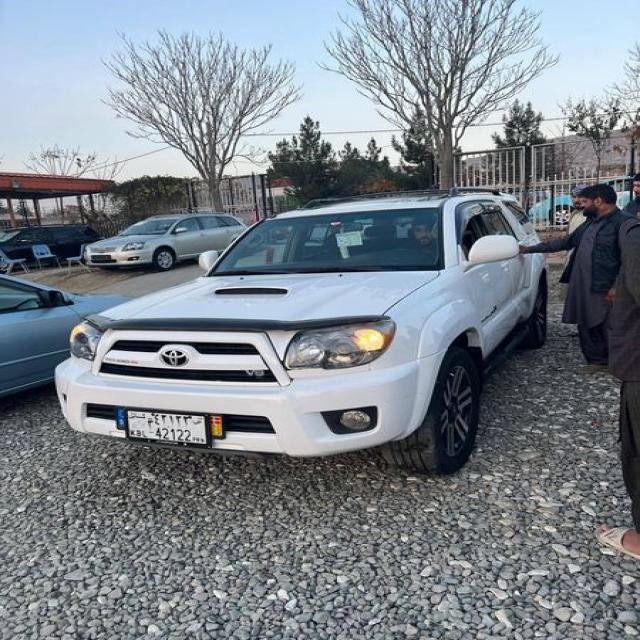Plate: (121, 404, 213, 450)
